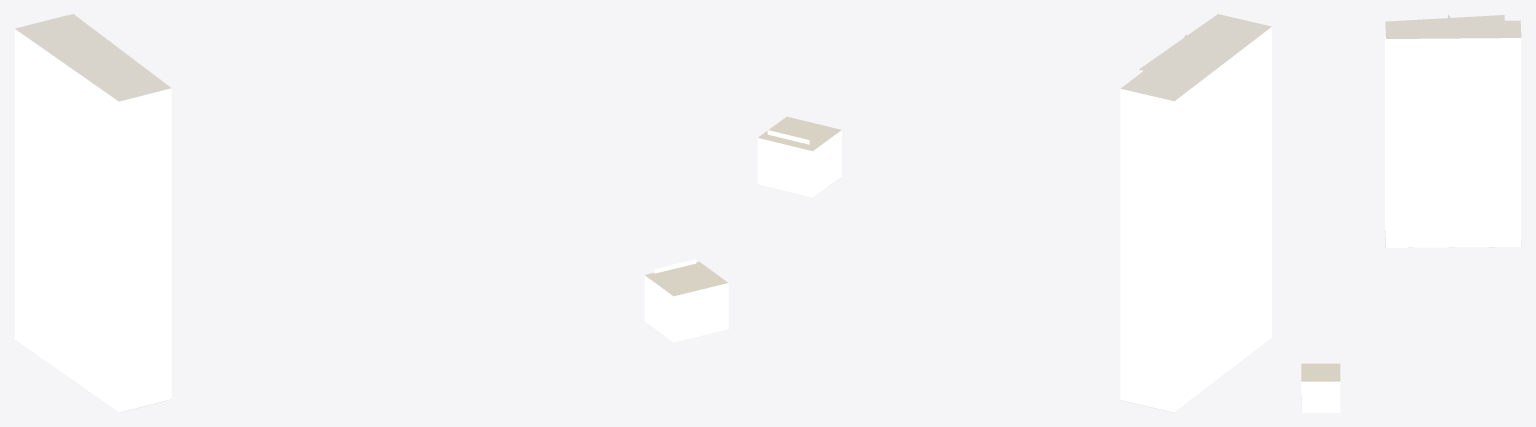
Rendered from buildings--8_-5-coarse.glb.
3 views of the same model, side by side, from view 1: azimuth 30°, elevation 25°; view 2: azimuth 150°, elevation 25°; view 3: azimuth 270°, elevation 25° (orthographic). The views are drawn at different scales.
Parts seen in each view (by area): view 1: block_-8_-5_office, block_-8_-5_roof, block_-8_-5_residential; view 2: block_-8_-5_office, block_-8_-5_roof, block_-8_-5_residential; view 3: block_-8_-5_office, block_-8_-5_roof, block_-8_-5_residential.
Part boxes in pixels (x1,y1,x2,y2): block_-8_-5_office: (14, 29, 171, 412); block_-8_-5_roof: (15, 14, 727, 412); block_-8_-5_residential: (644, 259, 728, 342); block_-8_-5_office: (1120, 27, 1271, 412); block_-8_-5_roof: (758, 14, 1271, 412); block_-8_-5_residential: (757, 130, 841, 197); block_-8_-5_office: (1385, 22, 1521, 247); block_-8_-5_roof: (1301, 14, 1521, 412); block_-8_-5_residential: (1301, 381, 1340, 412).
Size of the model in its own units: 100 by 57.75 by 51.8.
